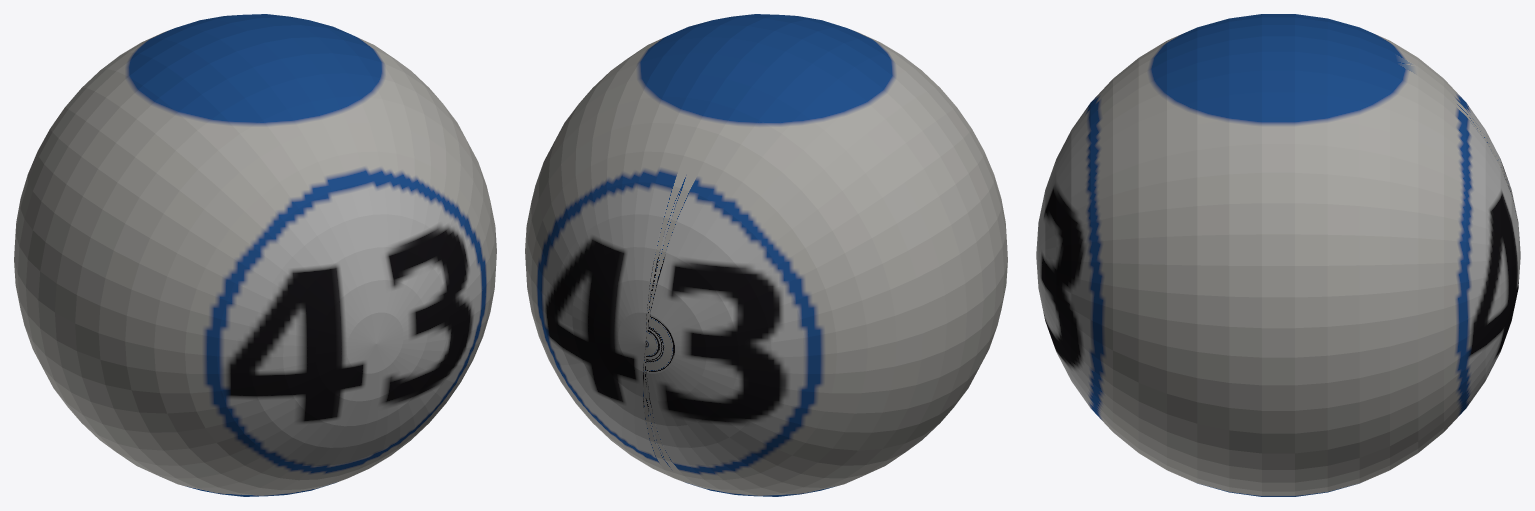
The picture shows the model from 3 angles, left to right: view 1: azimuth 30°, elevation 25°; view 2: azimuth 150°, elevation 25°; view 3: azimuth 270°, elevation 25°; orthographic projection.
Visible parts, largest first — view 1: geometry_0; view 2: geometry_0; view 3: geometry_0.
Boxes of the visible parts, x1,y1,x2,y2 form: geometry_0: (14, 14, 496, 496); geometry_0: (525, 14, 1007, 496); geometry_0: (1036, 14, 1520, 496).
Bounding box in the file's own units: 0.0599 × 0.0599 × 0.06.
Materials: 1 (1 with a texture image).
